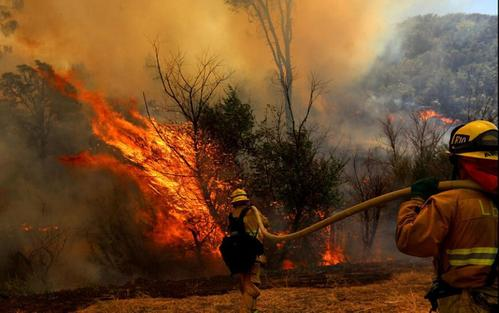fire: (60, 77, 231, 255)
smoke: (29, 3, 370, 69)
